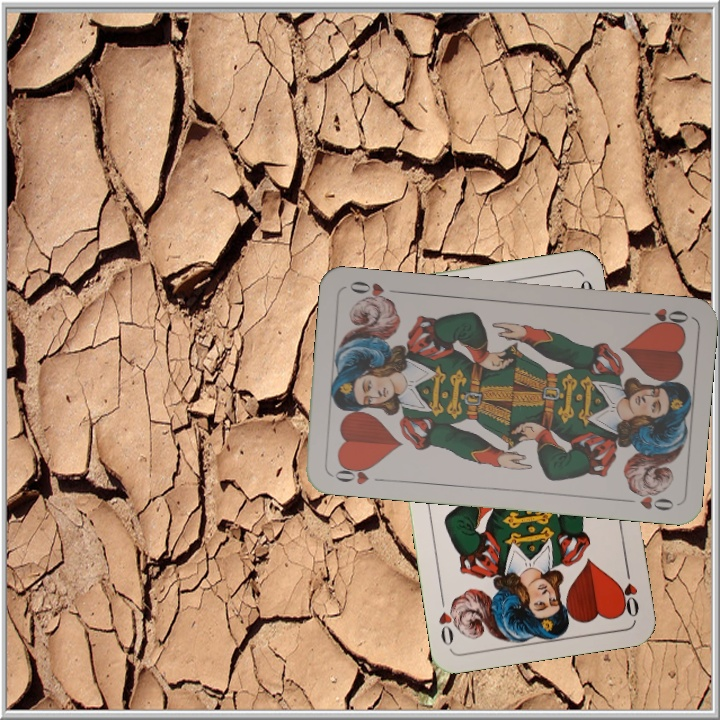HO: (328, 460, 387, 488), (615, 561, 642, 620), (633, 304, 691, 330)
